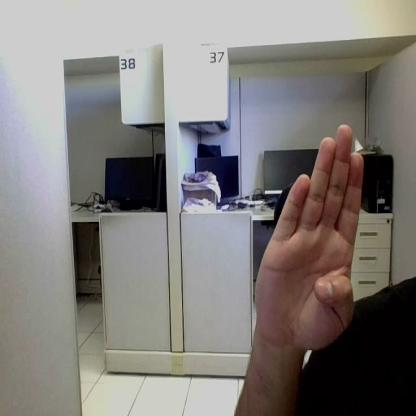B: (256, 125, 362, 347)
